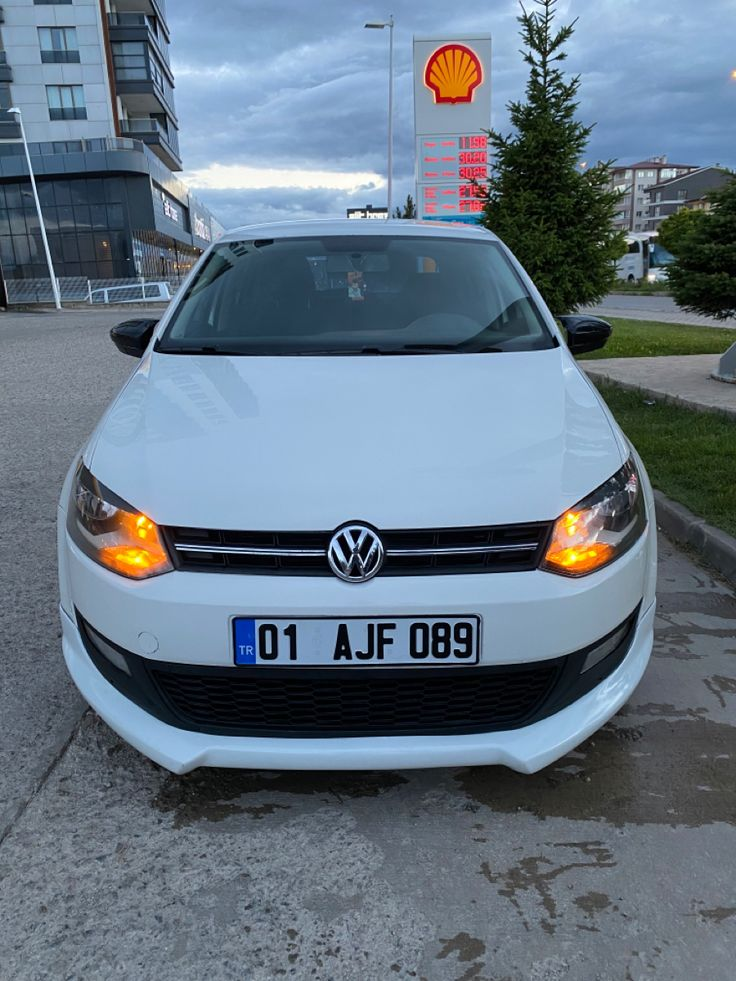plate: (230, 616, 489, 665)
